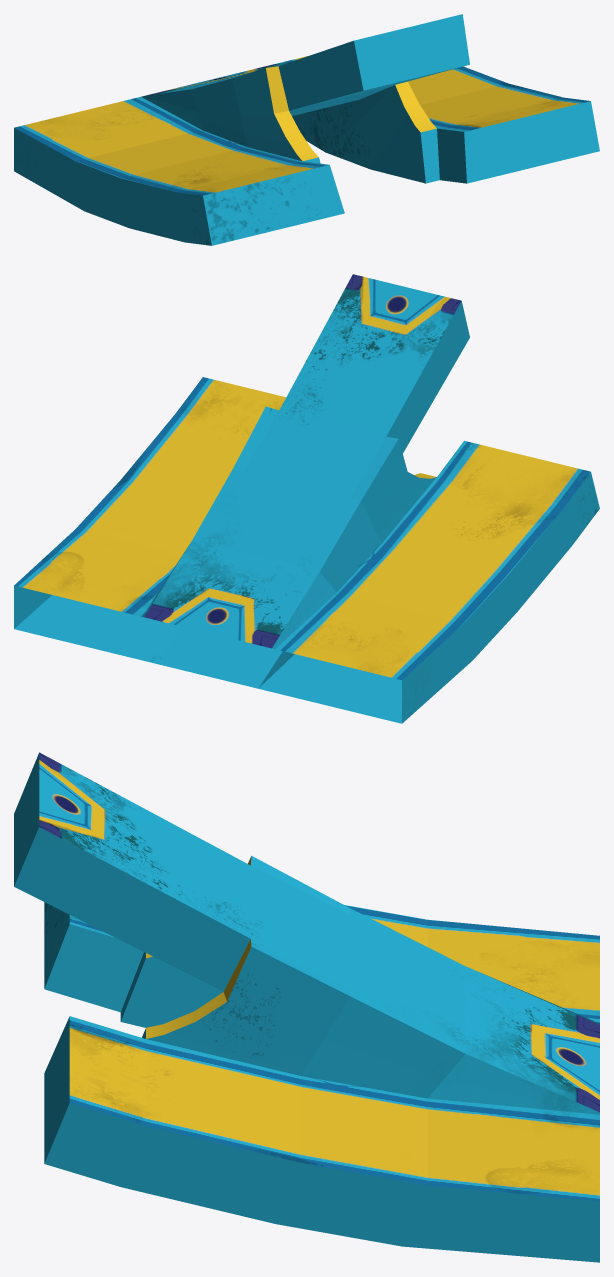
File: PV_ForkRamp.fbx
3 views of the same model, one above another, from view 1: azimuth 30°, elevation 25°; view 2: azimuth 150°, elevation 25°; view 3: azimuth 270°, elevation 25° (orthographic). The views are drawn at different scales.
Parts seen in each view (by area): view 1: ramp; view 2: ramp; view 3: ramp.
Boxes of the visible parts, x1,y1,x2,y2 form: ramp: [14, 14, 599, 245]; ramp: [14, 274, 599, 723]; ramp: [14, 752, 599, 1262].
Bounding box in the file's own units: 2379 × 1422 × 2218.
1 material, 1 textured.
